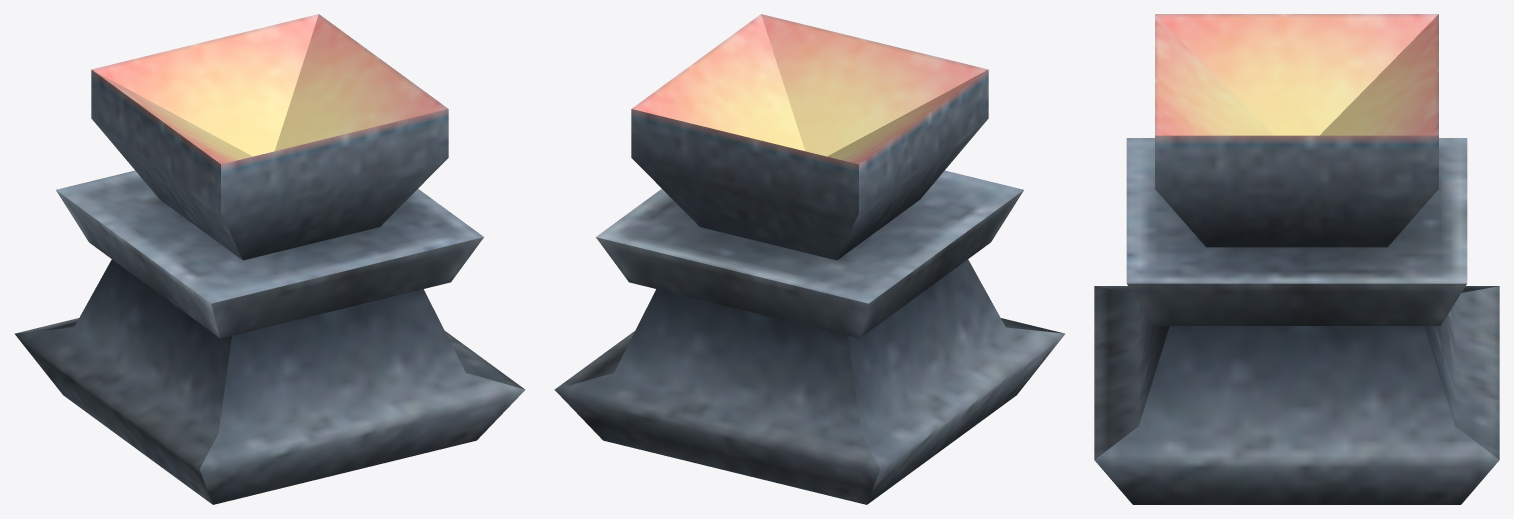
File: MJ_Jsls_06.FBX
3 views of the same model, side by side, from view 1: azimuth 30°, elevation 25°; view 2: azimuth 150°, elevation 25°; view 3: azimuth 270°, elevation 25° (orthographic). The views are drawn at different scales.
Parts seen in each view (by area): view 1: Object59; view 2: Object59; view 3: Object59.
Part boxes in pixels (bbox=[...]): Object59: bbox=[14, 14, 525, 504]; Object59: bbox=[554, 14, 1065, 504]; Object59: bbox=[1094, 14, 1499, 504].
Size of the model in its own units: 1.4 by 1.35 by 1.38.
